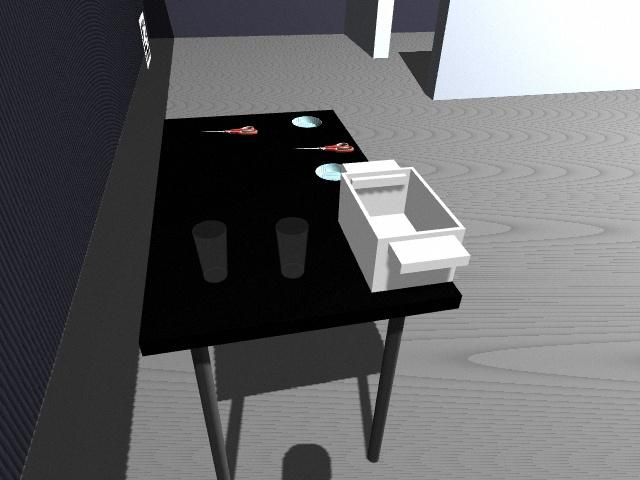cup: (186, 219, 233, 288), (275, 217, 308, 278)
plate: (315, 162, 347, 181), (291, 115, 322, 128)
scissors: (296, 142, 355, 153), (200, 126, 259, 136)
